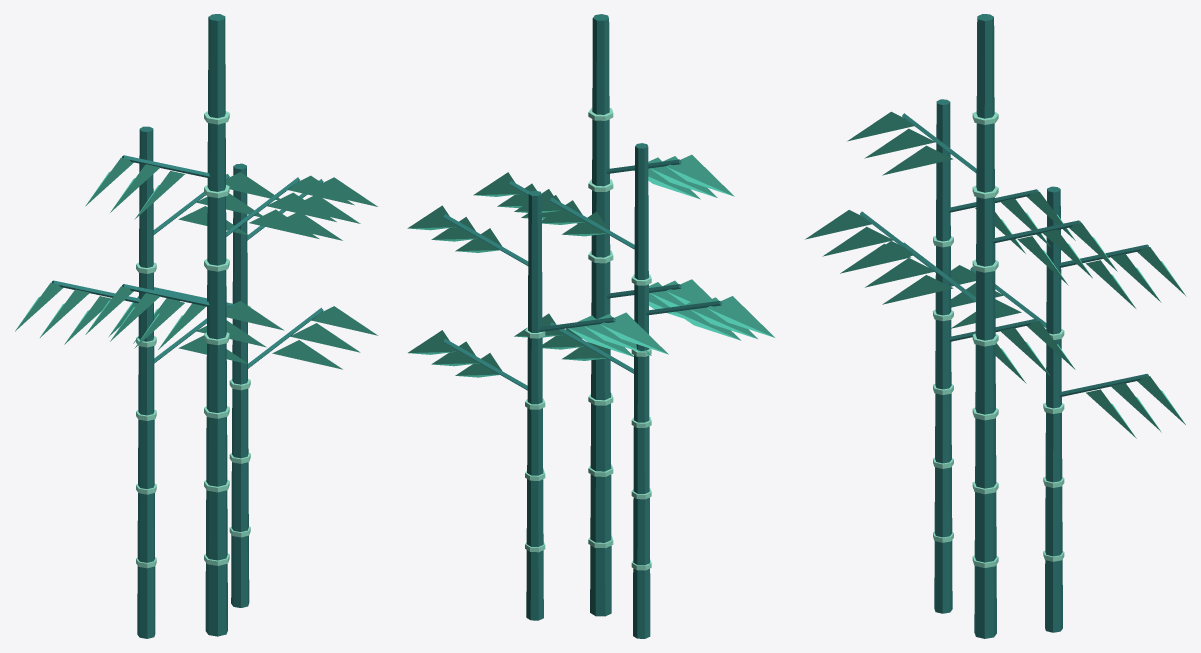
File: bamboo.glb
The picture shows the model from 3 angles, left to right: view 1: azimuth 30°, elevation 25°; view 2: azimuth 150°, elevation 25°; view 3: azimuth 330°, elevation 25°; orthographic projection. The views are drawn at different scales.
Parts seen in each view (by area): view 1: Bamboo green culm.001, Bamboo green culm, Bamboo green culm.002, Bamboo lance leaf.018, Bamboo lance leaf.012, Bamboo lance leaf.019, Bamboo lance leaf.013, Bamboo lance leaf.014, Bamboo lance leaf.020, Bamboo lance leaf.002, Bamboo lance leaf.008, Bamboo lance leaf.026; view 2: Bamboo green culm.001, Bamboo green culm, Bamboo green culm.002, Bamboo lance leaf.023, Bamboo lance leaf.017, Bamboo lance leaf.005, Bamboo lance leaf.003, Bamboo lance leaf.020, Bamboo lance leaf.011, Bamboo lance leaf.014, Bamboo lance leaf.026, Bamboo lance leaf.016 (+9 smaller); view 3: Bamboo green culm.001, Bamboo green culm, Bamboo green culm.002, Bamboo lance leaf.009, Bamboo lance leaf.015, Bamboo lance leaf.010, Bamboo lance leaf.004, Bamboo lance leaf.016, Bamboo lance leaf.017, Bamboo lance leaf.011, Bamboo lance leaf.005.
Boxes of the visible parts, left/top/right/bottom form: Bamboo green culm.001: left=205, top=14, right=227, bottom=636; Bamboo green culm: left=137, top=126, right=155, bottom=638; Bamboo green culm.002: left=231, top=163, right=249, bottom=607; Bamboo lance leaf.018: left=272, top=340, right=342, bottom=369; Bamboo lance leaf.012: left=249, top=209, right=319, bottom=238; Bamboo lance leaf.019: left=290, top=323, right=360, bottom=352; Bamboo lance leaf.013: left=267, top=192, right=336, bottom=221; Bamboo lance leaf.014: left=288, top=175, right=354, bottom=205; Bamboo lance leaf.020: left=311, top=306, right=377, bottom=335; Bamboo lance leaf.002: left=226, top=301, right=284, bottom=330; Bamboo lance leaf.008: left=226, top=172, right=279, bottom=200; Bamboo lance leaf.026: left=322, top=177, right=377, bottom=206; Bamboo green culm.001: left=590, top=14, right=611, bottom=616; Bamboo green culm: left=633, top=143, right=650, bottom=638; Bamboo green culm.002: left=526, top=190, right=543, bottom=620; Bamboo lance leaf.023: left=600, top=312, right=668, bottom=354; Bamboo lance leaf.017: left=666, top=154, right=734, bottom=196; Bamboo lance leaf.005: left=706, top=296, right=774, bottom=337; Bamboo lance leaf.003: left=674, top=298, right=741, bottom=340; Bamboo lance leaf.020: left=408, top=330, right=456, bottom=354; Bamboo lance leaf.011: left=666, top=279, right=711, bottom=304; Bamboo lance leaf.014: left=473, top=172, right=522, bottom=196; Bamboo lance leaf.026: left=407, top=205, right=456, bottom=230; Bamboo lance leaf.016: left=650, top=156, right=717, bottom=197; Bamboo green culm.001: left=974, top=14, right=996, bottom=638; Bamboo green culm: left=934, top=99, right=952, bottom=613; Bamboo green culm.002: left=1045, top=186, right=1062, bottom=632; Bamboo lance leaf.009: left=882, top=275, right=953, bottom=304; Bamboo lance leaf.015: left=882, top=145, right=953, bottom=175; Bamboo lance leaf.010: left=865, top=258, right=935, bottom=287; Bamboo lance leaf.004: left=822, top=226, right=892, bottom=256; Bamboo lance leaf.016: left=864, top=128, right=934, bottom=158; Bamboo lance leaf.017: left=847, top=111, right=913, bottom=141; Bamboo lance leaf.011: left=847, top=241, right=913, bottom=270; Bamboo lance leaf.005: left=805, top=210, right=871, bottom=239.
Bounding box in the file's own units: 2.12 × 3.34 × 0.416.
